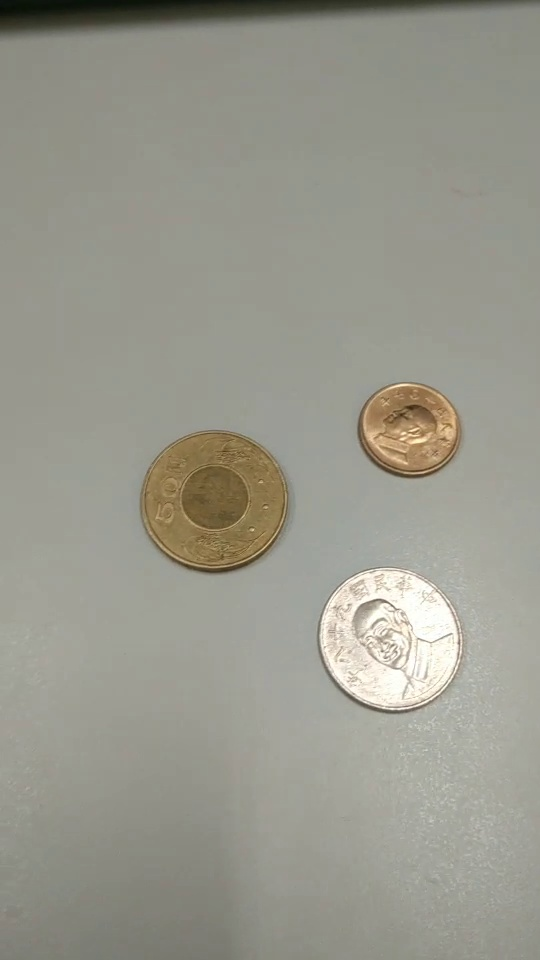NT$ 1: (356, 380, 461, 480)
NT$ 10: (320, 567, 463, 713)
NT$ 50: (139, 427, 289, 574)
